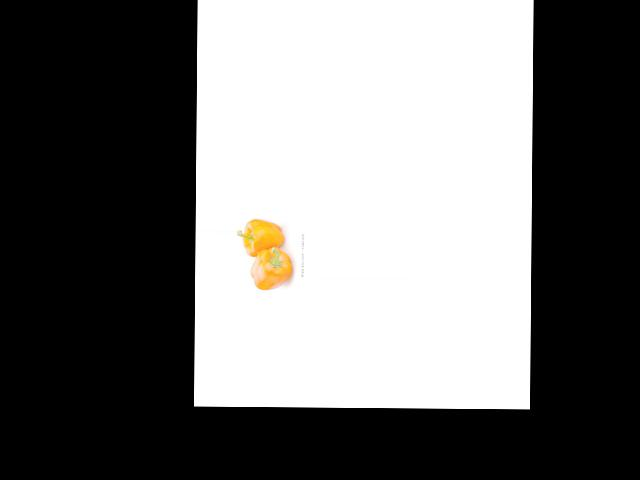bell_pepper: (249, 245, 297, 291)
